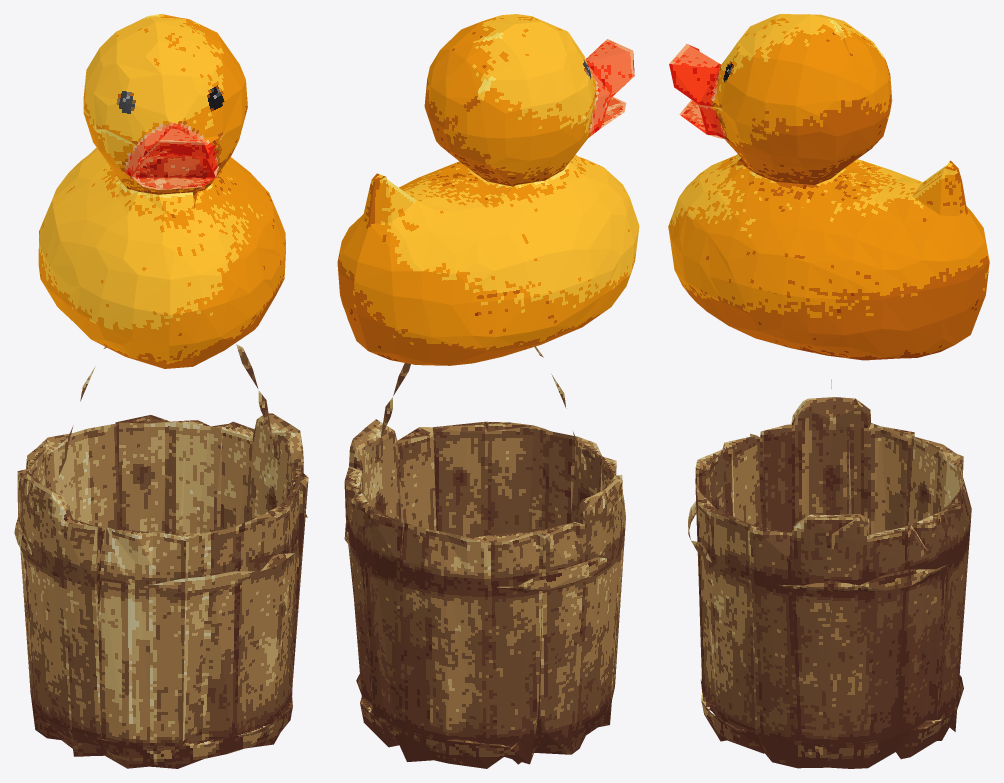
The model's file is duck.glb.
3 views of the same model, side by side, from view 1: azimuth 30°, elevation 25°; view 2: azimuth 150°, elevation 25°; view 3: azimuth 270°, elevation 25° (orthographic). The views are drawn at different scales.
Parts seen in each view (by area): view 1: model_pail, model_duck; view 2: model_pail, model_duck; view 3: model_pail, model_duck.
Boxes of the visible parts, x1,y1,x2,y2 form: model_pail: (14, 344, 308, 768); model_duck: (38, 14, 285, 368); model_pail: (344, 346, 625, 768); model_duck: (337, 14, 639, 365); model_pail: (688, 379, 971, 768); model_duck: (668, 14, 989, 360).
Bounding box in the file's own units: 14.14 × 37.27 × 15.5.
Materials: 2 (2 with a texture image).
